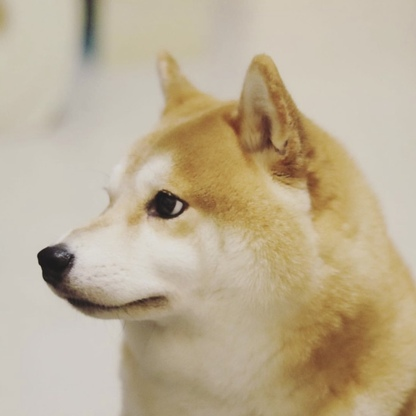shiba: (26, 43, 416, 412)
